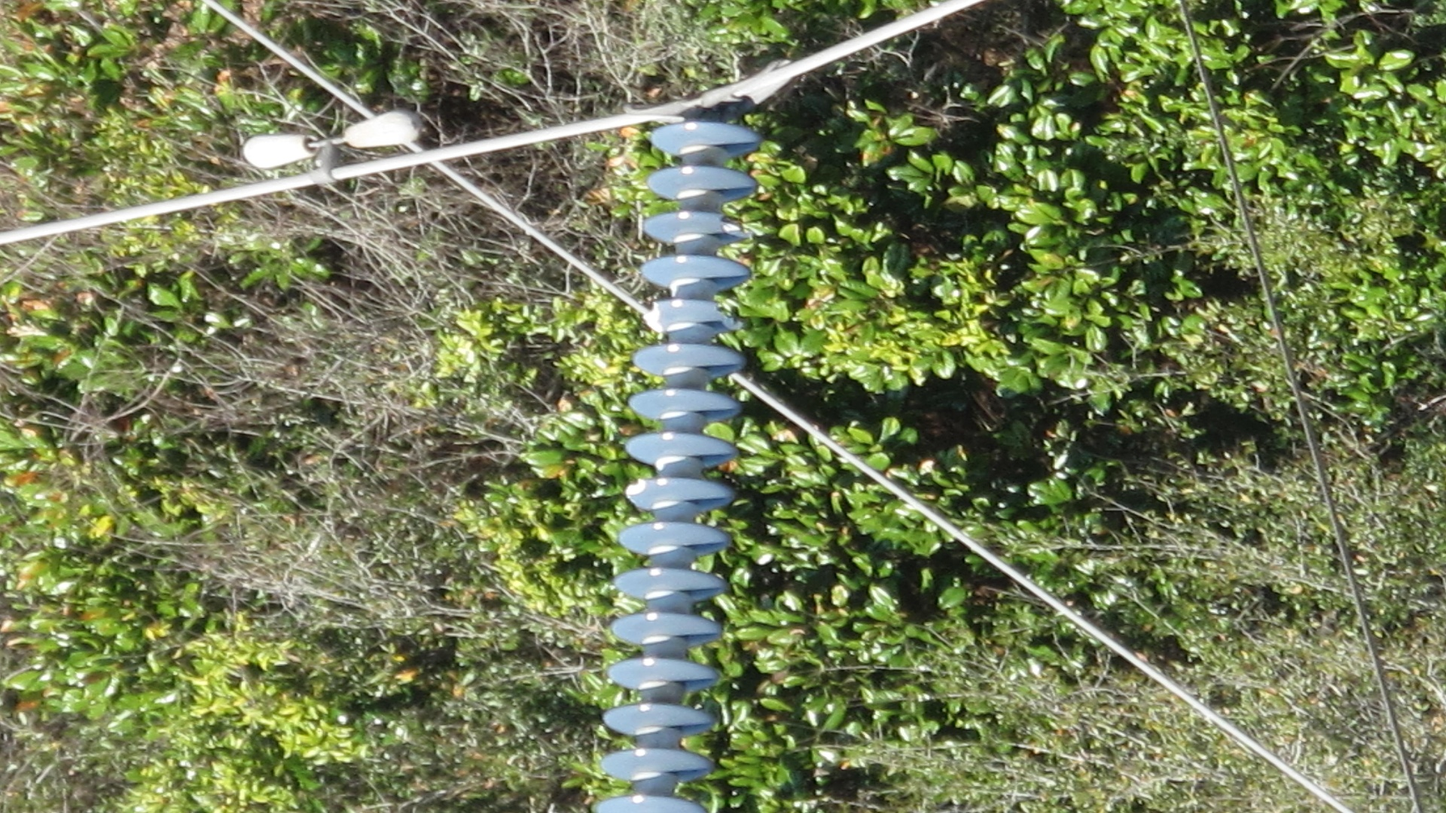insulator: (583, 116, 766, 813), (709, 299, 745, 335)
insulator_breakage: (714, 207, 755, 243), (639, 297, 670, 336), (622, 475, 649, 509)
